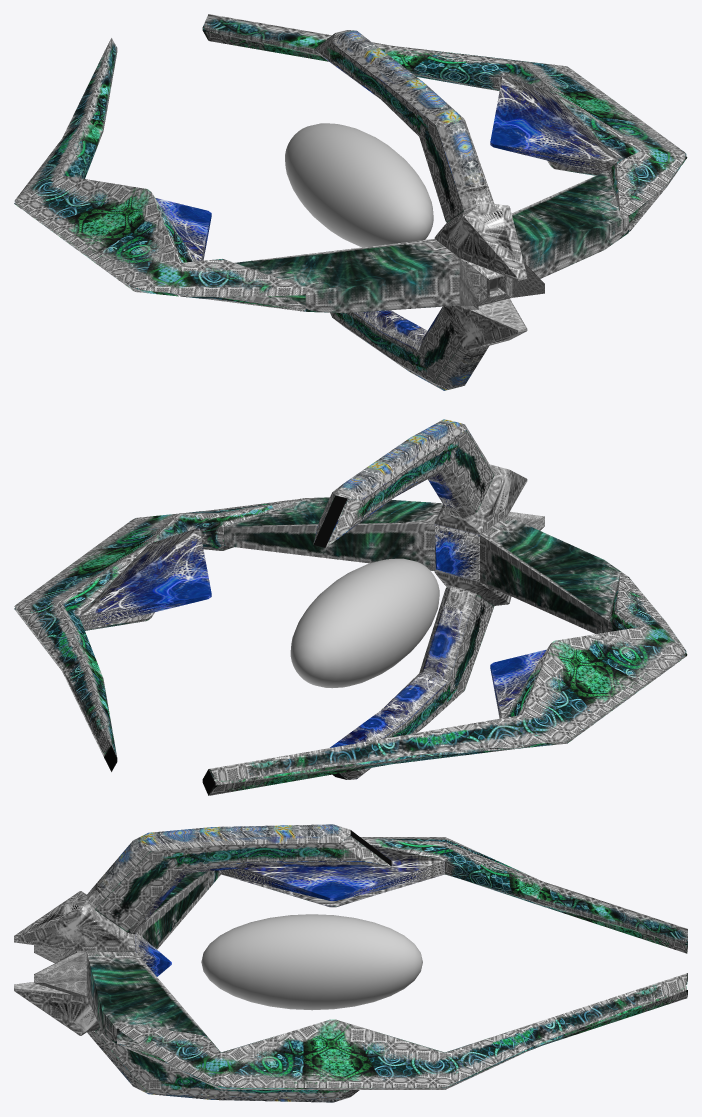
File: AlienLeger.fbx
3 views of the same model, one above another, from view 1: azimuth 30°, elevation 25°; view 2: azimuth 150°, elevation 25°; view 3: azimuth 270°, elevation 25° (orthographic). The views are drawn at different scales.
Parts seen in each view (by area): view 1: AlienLeger, AlienLegerCockpit; view 2: AlienLeger, AlienLegerCockpit; view 3: AlienLeger, AlienLegerCockpit.
Boxes of the visible parts, x1=… form: AlienLeger: x1=14, y1=14, x2=687, y2=390; AlienLegerCockpit: x1=285, y1=123, x2=433, y2=247; AlienLeger: x1=14, y1=419, x2=687, y2=795; AlienLegerCockpit: x1=290, y1=558, x2=439, y2=688; AlienLeger: x1=14, y1=824, x2=687, y2=1102; AlienLegerCockpit: x1=201, y1=914, x2=422, y2=1010.
Bounding box in the file's own units: 536 × 271 × 608.
